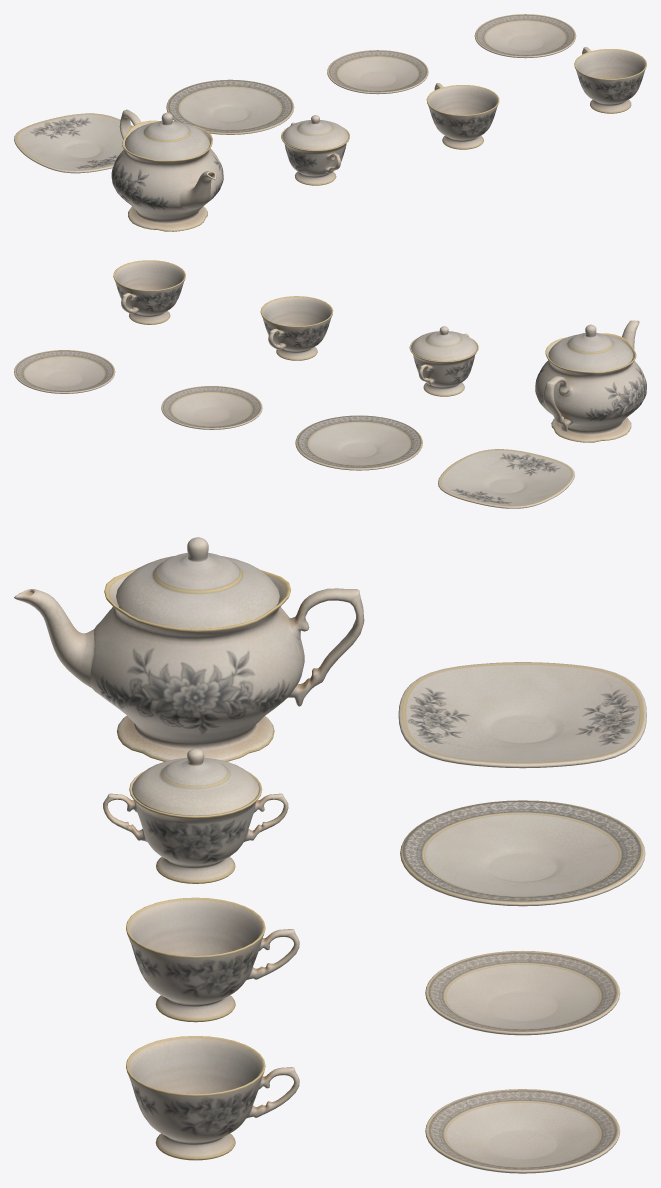
Rendered from tea-set.glb.
3 views of the same model, one above another, from view 1: azimuth 30°, elevation 25°; view 2: azimuth 150°, elevation 25°; view 3: azimuth 270°, elevation 25° (orthographic). The views are drawn at different scales.
Parts seen in each view (by area): view 1: tea_set_01_teapot_01, tea_set_01_plate_large_circular_03, tea_set_01_plate_large_square_01, tea_set_01_cup_small_01, tea_set_01_cup_small_02, tea_set_01_saucer_circular_03, tea_set_01_saucer_circular_04, tea_set_01_teapot_01_lid, tea_set_01_sugar_cup_01, tea_set_01_sugar_cup_01_lid; view 2: tea_set_01_teapot_01, tea_set_01_plate_large_square_01, tea_set_01_plate_large_circular_03, tea_set_01_cup_small_02, tea_set_01_cup_small_01, tea_set_01_saucer_circular_04, tea_set_01_saucer_circular_03, tea_set_01_teapot_01_lid, tea_set_01_sugar_cup_01, tea_set_01_sugar_cup_01_lid; view 3: tea_set_01_teapot_01, tea_set_01_plate_large_square_01, tea_set_01_plate_large_circular_03, tea_set_01_cup_small_02, tea_set_01_cup_small_01, tea_set_01_saucer_circular_03, tea_set_01_saucer_circular_04, tea_set_01_teapot_01_lid, tea_set_01_sugar_cup_01, tea_set_01_sugar_cup_01_lid.
Part boxes in pixels (bbox=[...]): tea_set_01_teapot_01: bbox=[111, 109, 223, 231]; tea_set_01_plate_large_circular_03: bbox=[166, 79, 294, 134]; tea_set_01_plate_large_square_01: bbox=[14, 113, 133, 173]; tea_set_01_cup_small_01: bbox=[426, 83, 499, 149]; tea_set_01_cup_small_02: bbox=[574, 47, 646, 113]; tea_set_01_saucer_circular_03: bbox=[474, 14, 576, 58]; tea_set_01_saucer_circular_04: bbox=[327, 50, 428, 94]; tea_set_01_teapot_01_lid: bbox=[125, 112, 209, 160]; tea_set_01_sugar_cup_01: bbox=[281, 122, 349, 185]; tea_set_01_sugar_cup_01_lid: bbox=[282, 115, 348, 150]; tea_set_01_teapot_01: bbox=[535, 320, 646, 442]; tea_set_01_plate_large_square_01: bbox=[438, 449, 574, 508]; tea_set_01_plate_large_circular_03: bbox=[295, 415, 422, 470]; tea_set_01_cup_small_02: bbox=[113, 260, 185, 324]; tea_set_01_cup_small_01: bbox=[260, 296, 333, 360]; tea_set_01_saucer_circular_04: bbox=[161, 386, 262, 429]; tea_set_01_saucer_circular_03: bbox=[14, 350, 115, 393]; tea_set_01_teapot_01_lid: bbox=[548, 324, 633, 371]; tea_set_01_sugar_cup_01: bbox=[409, 333, 478, 396]; tea_set_01_sugar_cup_01_lid: bbox=[411, 326, 477, 361]; tea_set_01_teapot_01: bbox=[14, 557, 364, 761]; tea_set_01_plate_large_square_01: bbox=[398, 662, 646, 768]; tea_set_01_plate_large_circular_03: bbox=[400, 800, 645, 906]; tea_set_01_cup_small_02: bbox=[126, 1036, 299, 1160]; tea_set_01_cup_small_01: bbox=[126, 897, 299, 1022]; tea_set_01_saucer_circular_03: bbox=[425, 1089, 620, 1173]; tea_set_01_saucer_circular_04: bbox=[425, 950, 620, 1035]; tea_set_01_teapot_01_lid: bbox=[116, 537, 279, 628]; tea_set_01_sugar_cup_01: bbox=[103, 771, 288, 883]; tea_set_01_sugar_cup_01_lid: bbox=[131, 748, 259, 815].
Bounding box in the file's own units: 0.9185 × 0.165 × 0.4839.
1 material, 1 textured.
